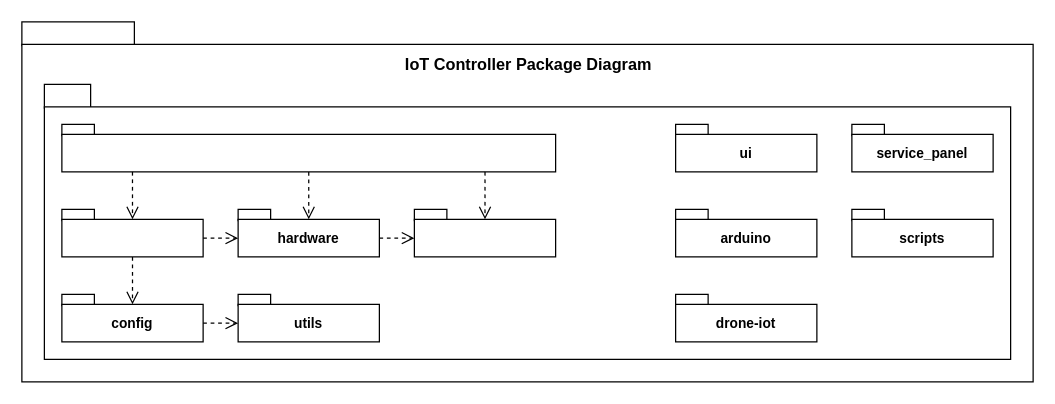
The diagram is 1055 pixels wide and 404 high, and some of its shapes have lost their labels. Each missing label, with the centre of its shape:
"domain" goes at (484,237).
"infracstructure" goes at (132,237).
"iot" goes at (67,95).
"services" goes at (308,152).
